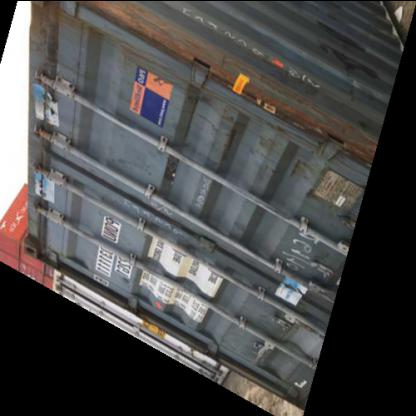Damage: (108, 5, 208, 62), (258, 97, 344, 141), (30, 1, 91, 52), (282, 157, 340, 201), (314, 15, 356, 70), (181, 91, 223, 123), (34, 163, 62, 207), (155, 159, 183, 195)
